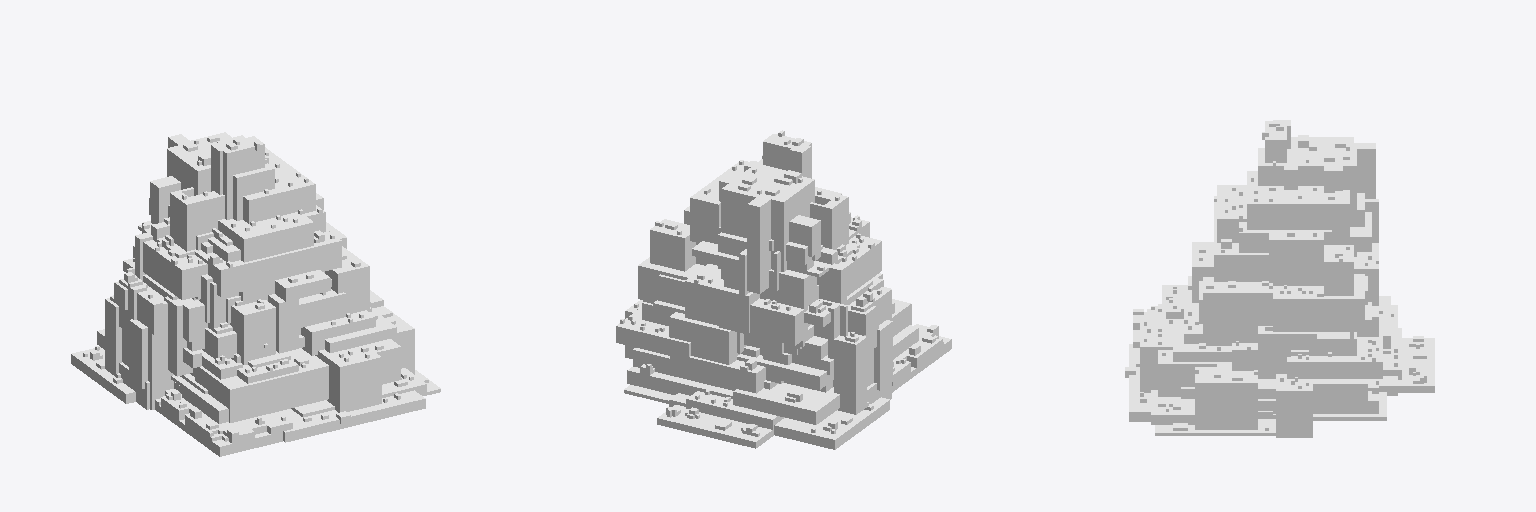
Rendered from Hospital-31.obj.
The picture shows the model from 3 angles: view 1: azimuth 30°, elevation 25°; view 2: azimuth 150°, elevation 25°; view 3: azimuth 270°, elevation 25°; orthographic projection.
Parts seen in each view (by area): view 1: object 1; view 2: object 1; view 3: object 1.
Boxes of the visible parts, x1=… form: object 1: x1=71, y1=132, x2=440, y2=456; object 1: x1=616, y1=130, x2=951, y2=449; object 1: x1=1125, y1=120, x2=1434, y2=437.
Bounding box in the file's own units: 7.9 × 7.2 × 8.4.